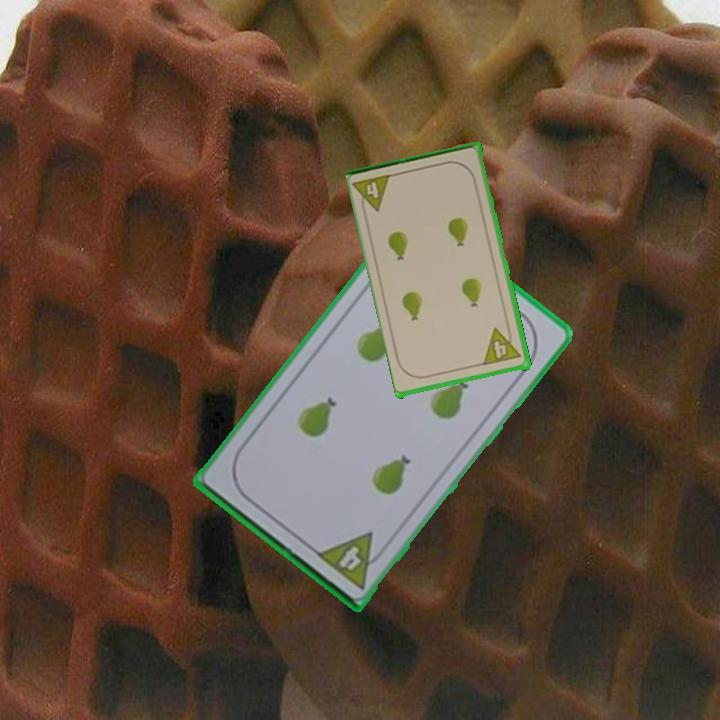4p: (312, 528, 390, 592), (351, 171, 395, 218), (480, 323, 524, 368)
